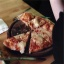pizza: (3, 13, 60, 50)
